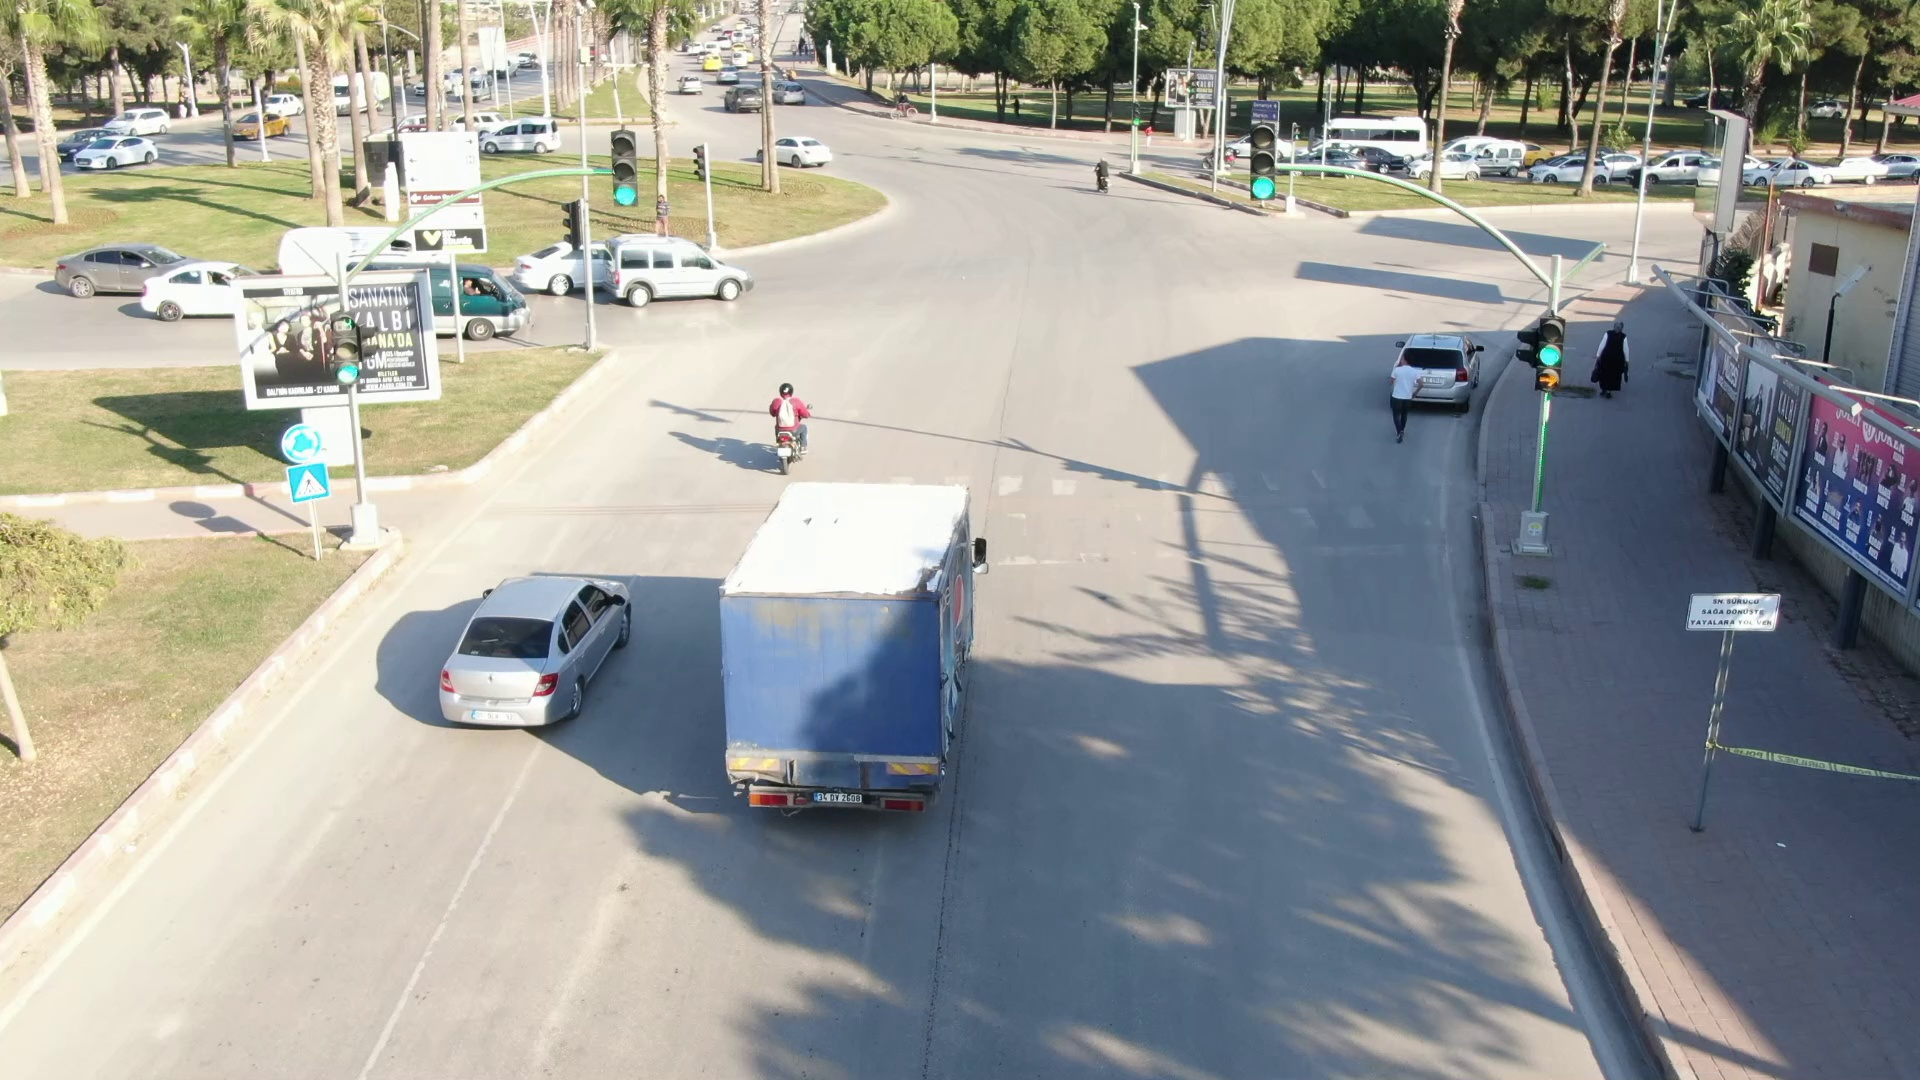car: (428, 548, 640, 734), (602, 227, 759, 306), (51, 236, 199, 304), (475, 113, 575, 154), (70, 132, 171, 169), (1520, 150, 1616, 188), (752, 131, 849, 167), (226, 111, 296, 144), (722, 80, 766, 115), (767, 78, 812, 106), (674, 72, 704, 96)
person: (1586, 309, 1645, 401), (762, 375, 823, 458), (1375, 349, 1424, 446)
